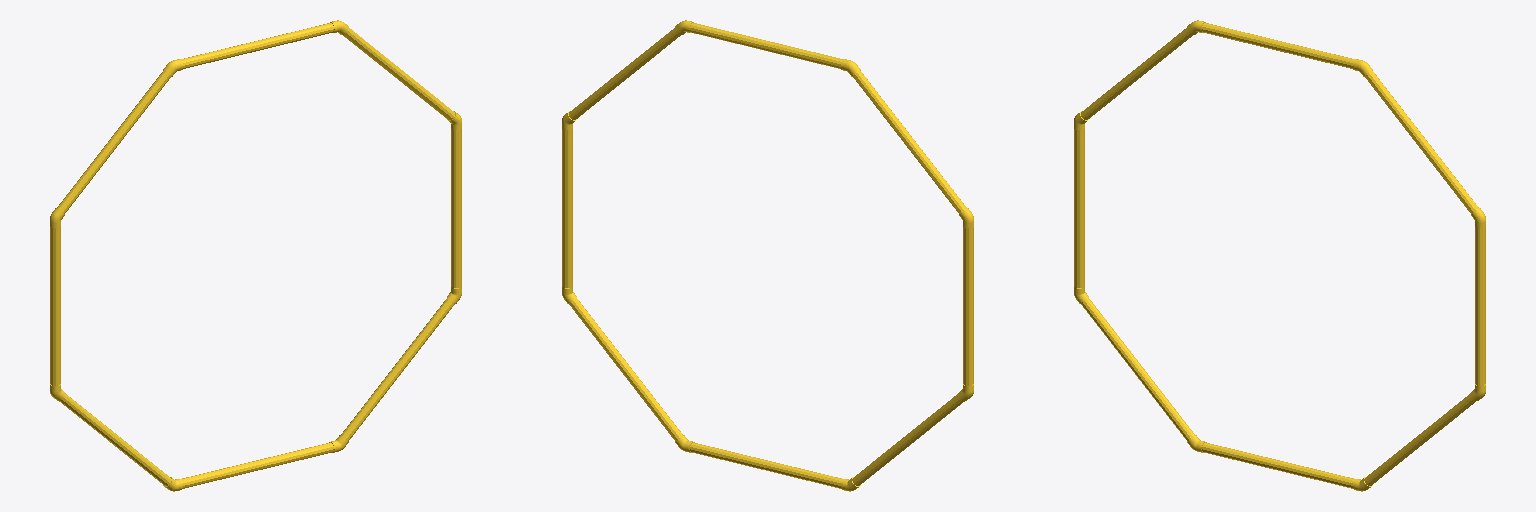
robot.urdf — rs2026_octogon:
<?xml version="1.0" encoding="utf-8"?>
<!-- This URDF was automatically created by SolidWorks to URDF Exporter! Originally created by Stephen Brawner (brawner@gmail.com) 
     Commit Version: 1.6.0-4-g7f85cfe  Build Version: 1.6.7995.38578
     For more information, please see http://wiki.ros.org/sw_urdf_exporter -->
<robot
  name="rs2026_octogon">
  <link
    name="base_link">
    <inertial>
      <origin
        xyz="-0.73443 1.4352 1.2932"
        rpy="0 0 0" />
      <mass
        value="12.512" />
      <inertia
        ixx="0.59399"
        ixy="8.3267E-16"
        ixz="1.2103E-16"
        iyy="0.59399"
        iyz="-5.3618E-17"
        izz="1.1789" />
    </inertial>
    <visual>
      <origin
        xyz="0 0 0"
        rpy="0 0 0" />
      <geometry>
        <mesh
          filename="package://rs2026_octogon/meshes/base_link.STL" />
      </geometry>
      <material
        name="">
        <color
          rgba="1 0.85 0.24 1" />
      </material>
    </visual>
    <collision>
      <origin
        xyz="0 0 0"
        rpy="0 0 0" />
      <geometry>
        <mesh
          filename="package://rs2026_octogon/meshes/base_link.STL" />
      </geometry>
    </collision>
  </link>
</robot>

--- What the picture shows (computed from the rendered views, not written in the file) ---
Views: 3 orthographic renders of the robot side by side, from view 1: azimuth 30°, elevation 25°; view 2: azimuth 150°, elevation 25°; view 3: azimuth 330°, elevation 25°.
Model rs2026_octogon with 1 links and 0 joints (none), rooted at base_link, posed all joints at 0.
Links seen in each view (by area): view 1: base_link; view 2: base_link; view 3: base_link.
Link boxes in pixels (x1,y1,x2,y2): base_link: [50, 20, 461, 491]; base_link: [562, 20, 973, 491]; base_link: [1074, 20, 1485, 491].
Size in the robot's own frame: 2.8 by 0.0691 by 2.8 metres.
1 mesh visuals loaded from 1 distinct referenced files (1 binary STL).
